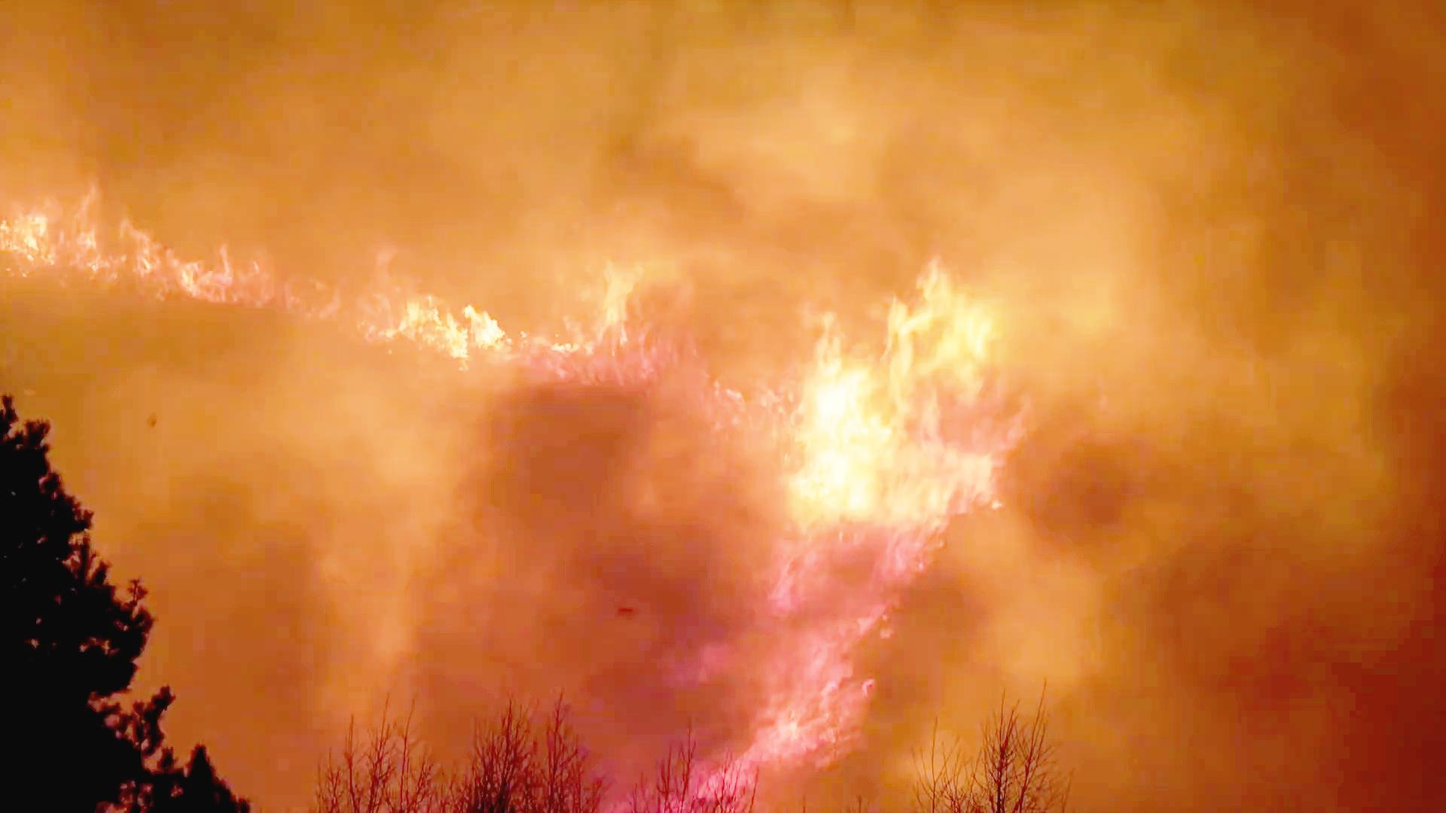fire: (779, 268, 1059, 548), (338, 247, 691, 375), (0, 160, 249, 315)
